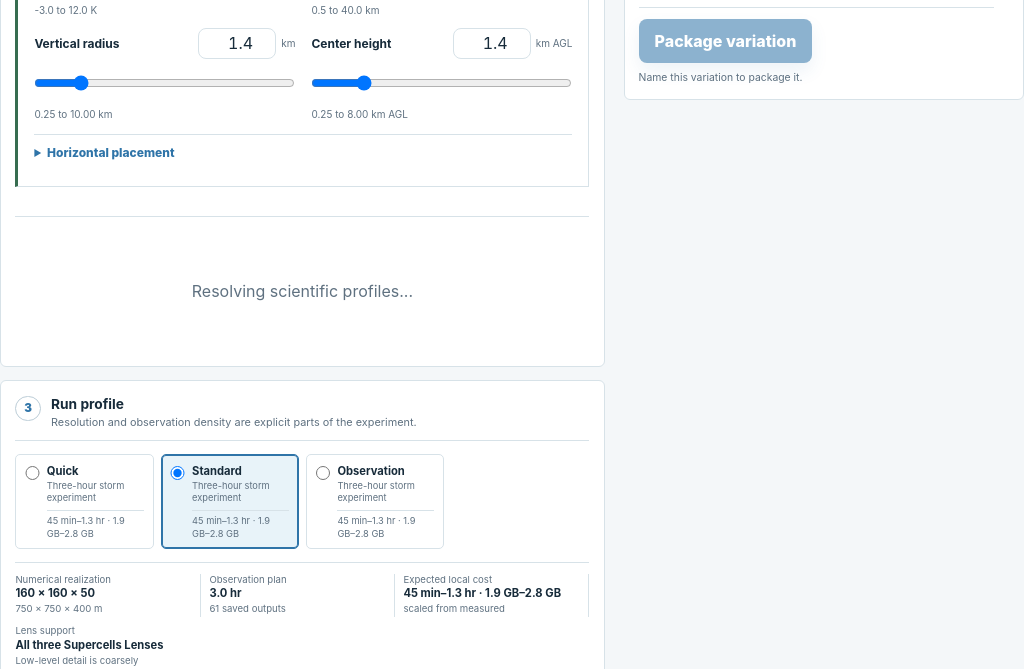
Test: SupercellsVariationEditor › labels observation-only packaging as an alternate attempt
(page scrolled)
Step 1. Click the radio button labelled "Observation" → coordinates (323, 473), box [316, 466, 330, 480]
(page scrolled)
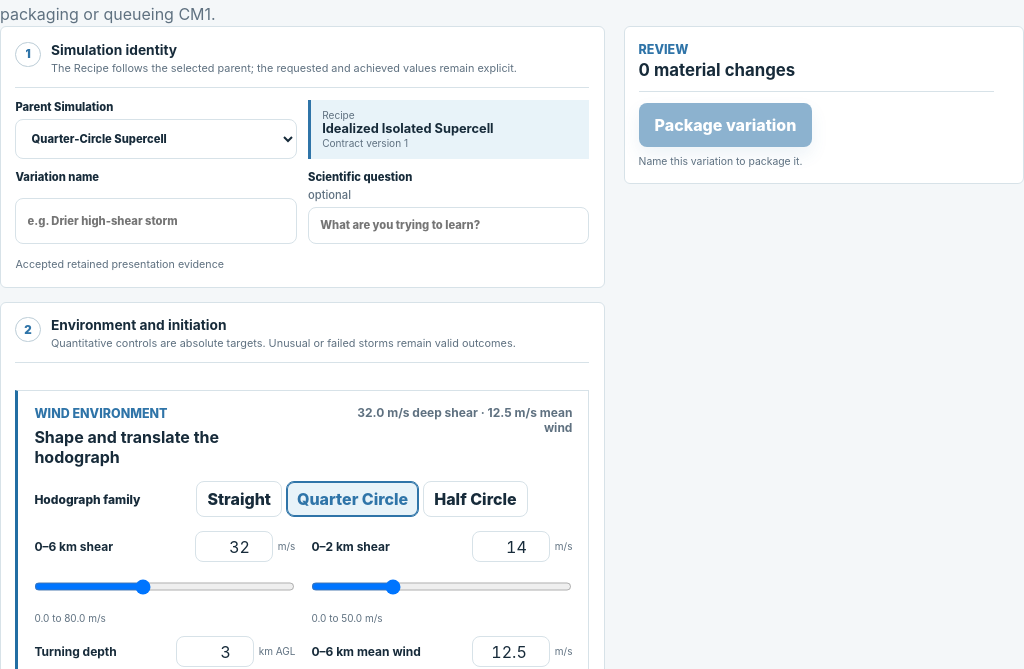
Step 2. Type "Denser output attempt" into the field labelled "Variation name" → coordinates (156, 221), box [15, 198, 297, 244]
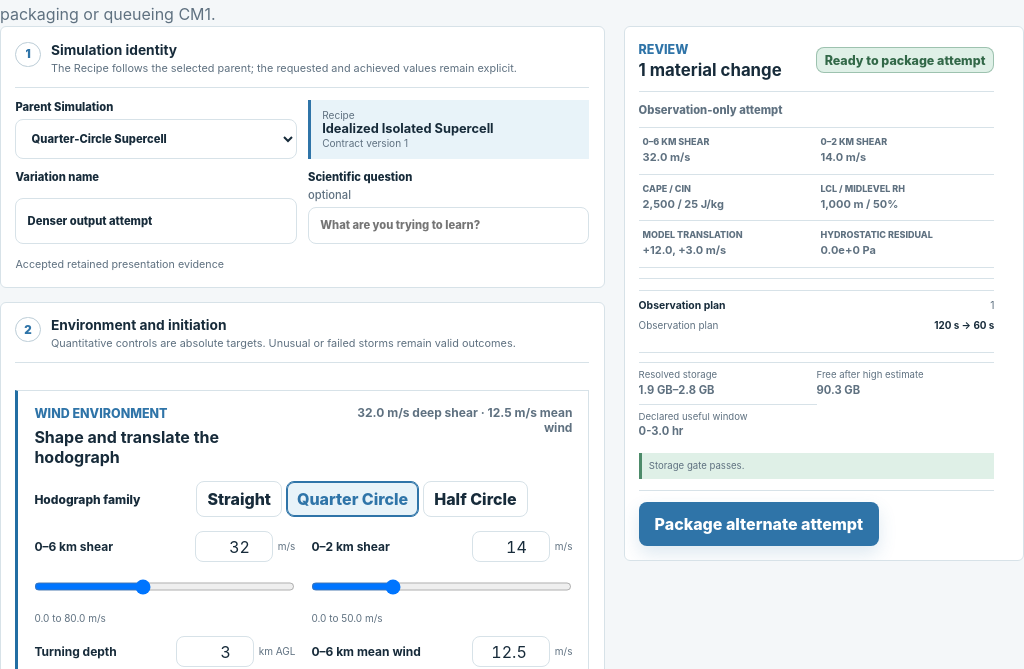
Now the button "Package alternate attempt" is enabled, box [639, 502, 879, 546]
Now the text "Ready to package attempt" is shown, box [816, 47, 994, 73]
Now the text "Observation-only attempt" is shown, box [639, 103, 782, 117]
